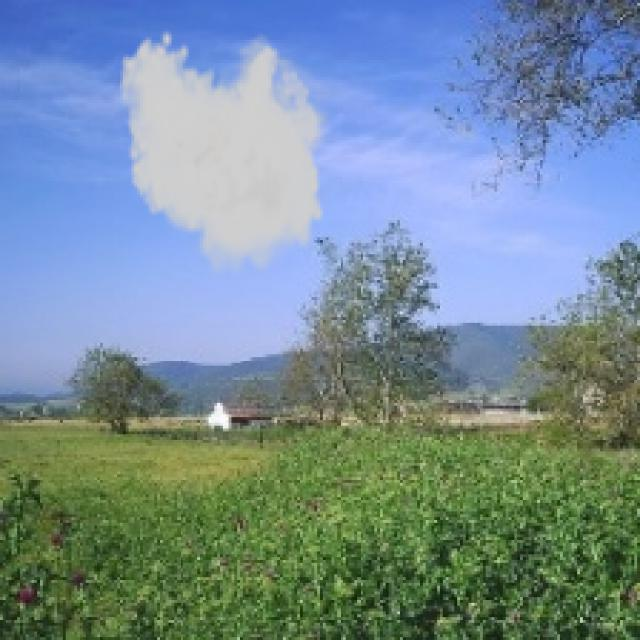Smoke: (117, 28, 337, 283)
